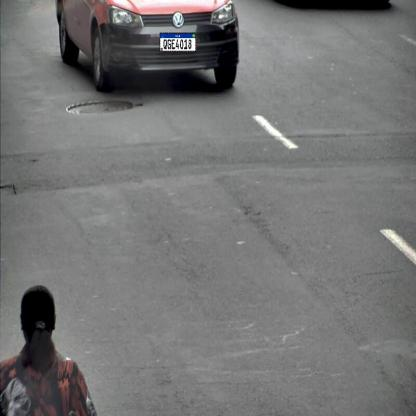PlacaM: (160, 33, 196, 52)
